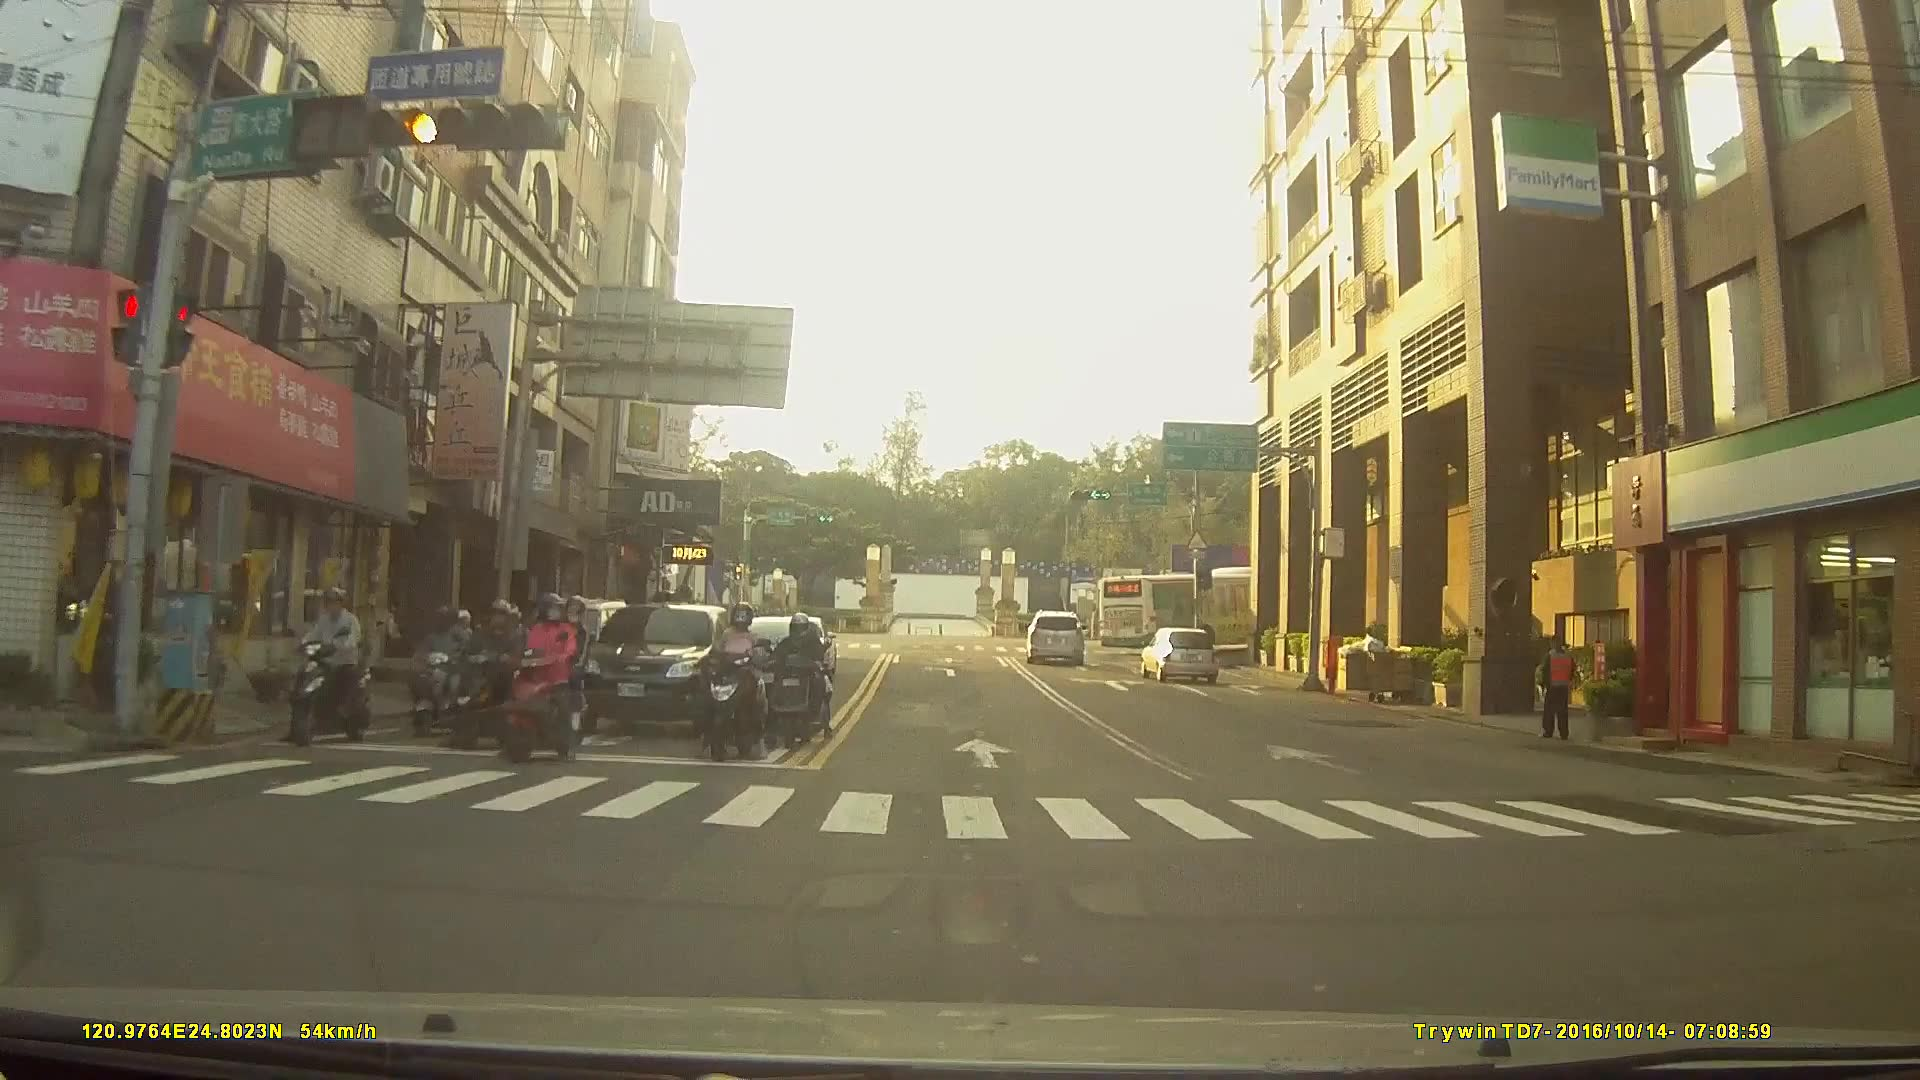pedestrian: (1531, 637, 1586, 749)
rider: (496, 592, 593, 767), (290, 591, 374, 749), (444, 592, 528, 751), (702, 605, 777, 760), (410, 607, 485, 737), (760, 614, 829, 750)
vehicle: (568, 599, 743, 734), (1097, 561, 1302, 659), (1138, 627, 1220, 684), (1023, 608, 1084, 661)
